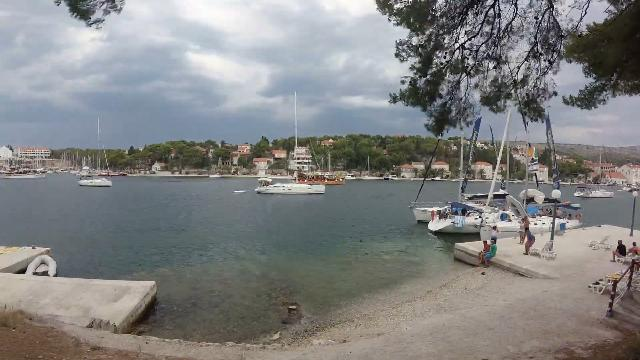Freighter: (290, 164, 348, 187), (0, 163, 50, 183)
Sailboat: (248, 172, 329, 198), (75, 173, 119, 190)
